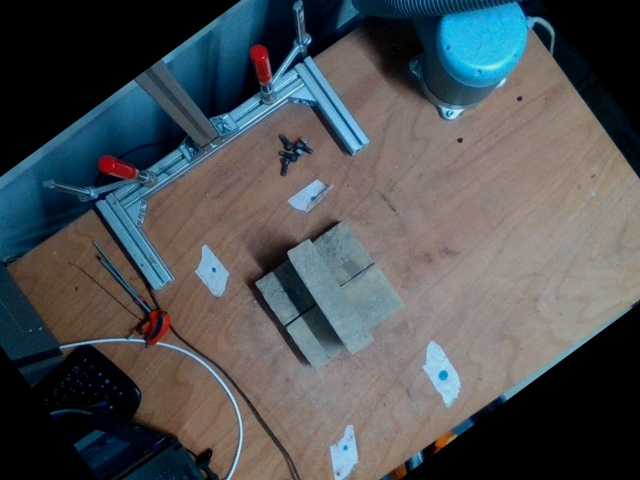brick-side: (287, 241, 370, 353)
